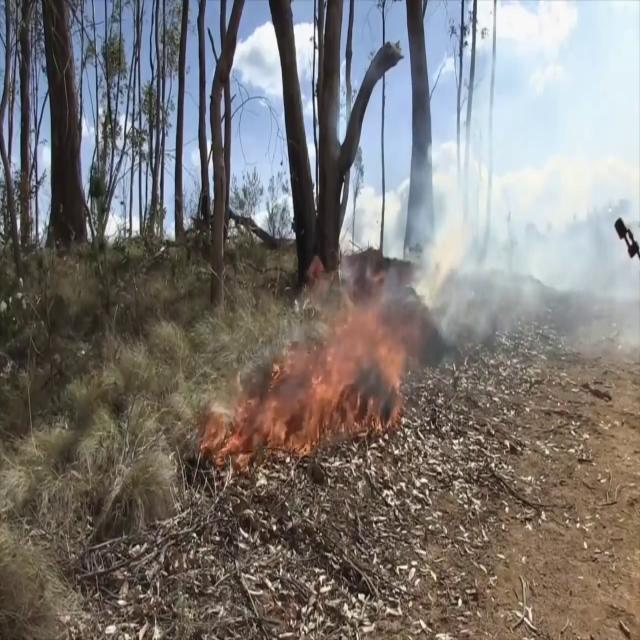Fire: (206, 275, 424, 462)
Smoke: (400, 39, 640, 376)
